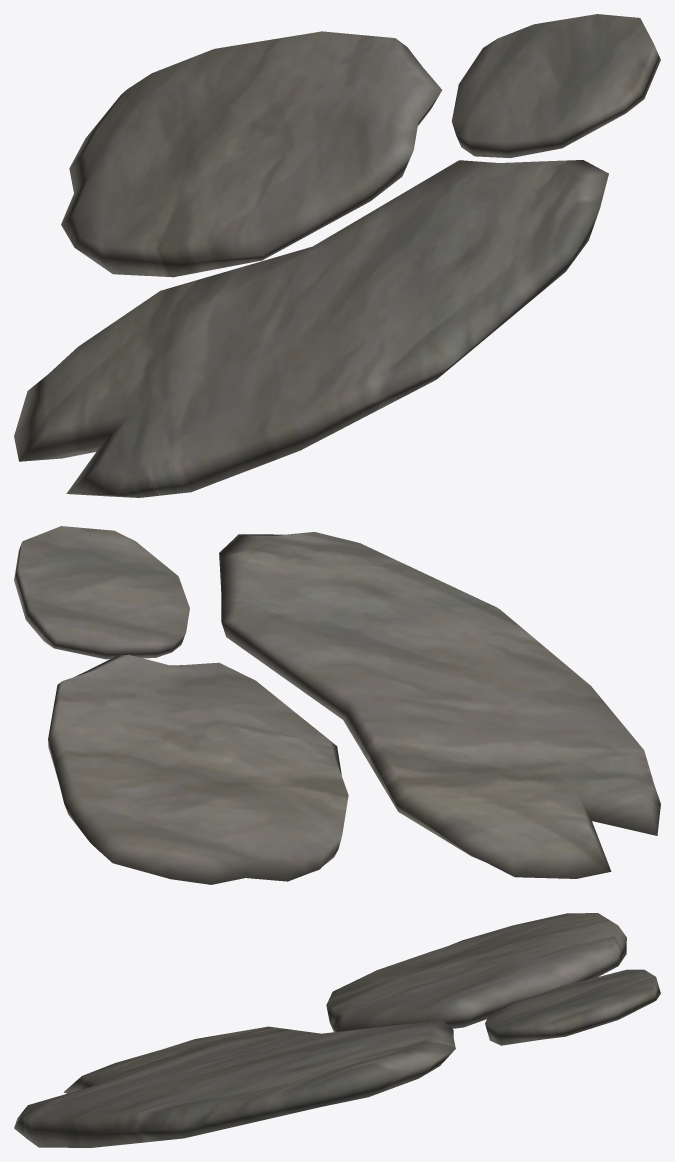
The model's file is FlatStone12Shape.dae.
3 renders of one model, top to bottom at view 1: azimuth 30°, elevation 25°; view 2: azimuth 150°, elevation 25°; view 3: azimuth 330°, elevation 25°, orthographic. The views are drawn at different scales.
Visible parts, largest first — view 1: FlatStone12; view 2: FlatStone12; view 3: FlatStone12.
Part boxes in pixels (left/top/right/bottom): FlatStone12: left=14, top=14, right=660, bottom=497; FlatStone12: left=14, top=526, right=660, bottom=884; FlatStone12: left=14, top=913, right=660, bottom=1147.
Size of the model in its own units: 2 by 0.74 by 2.03.
